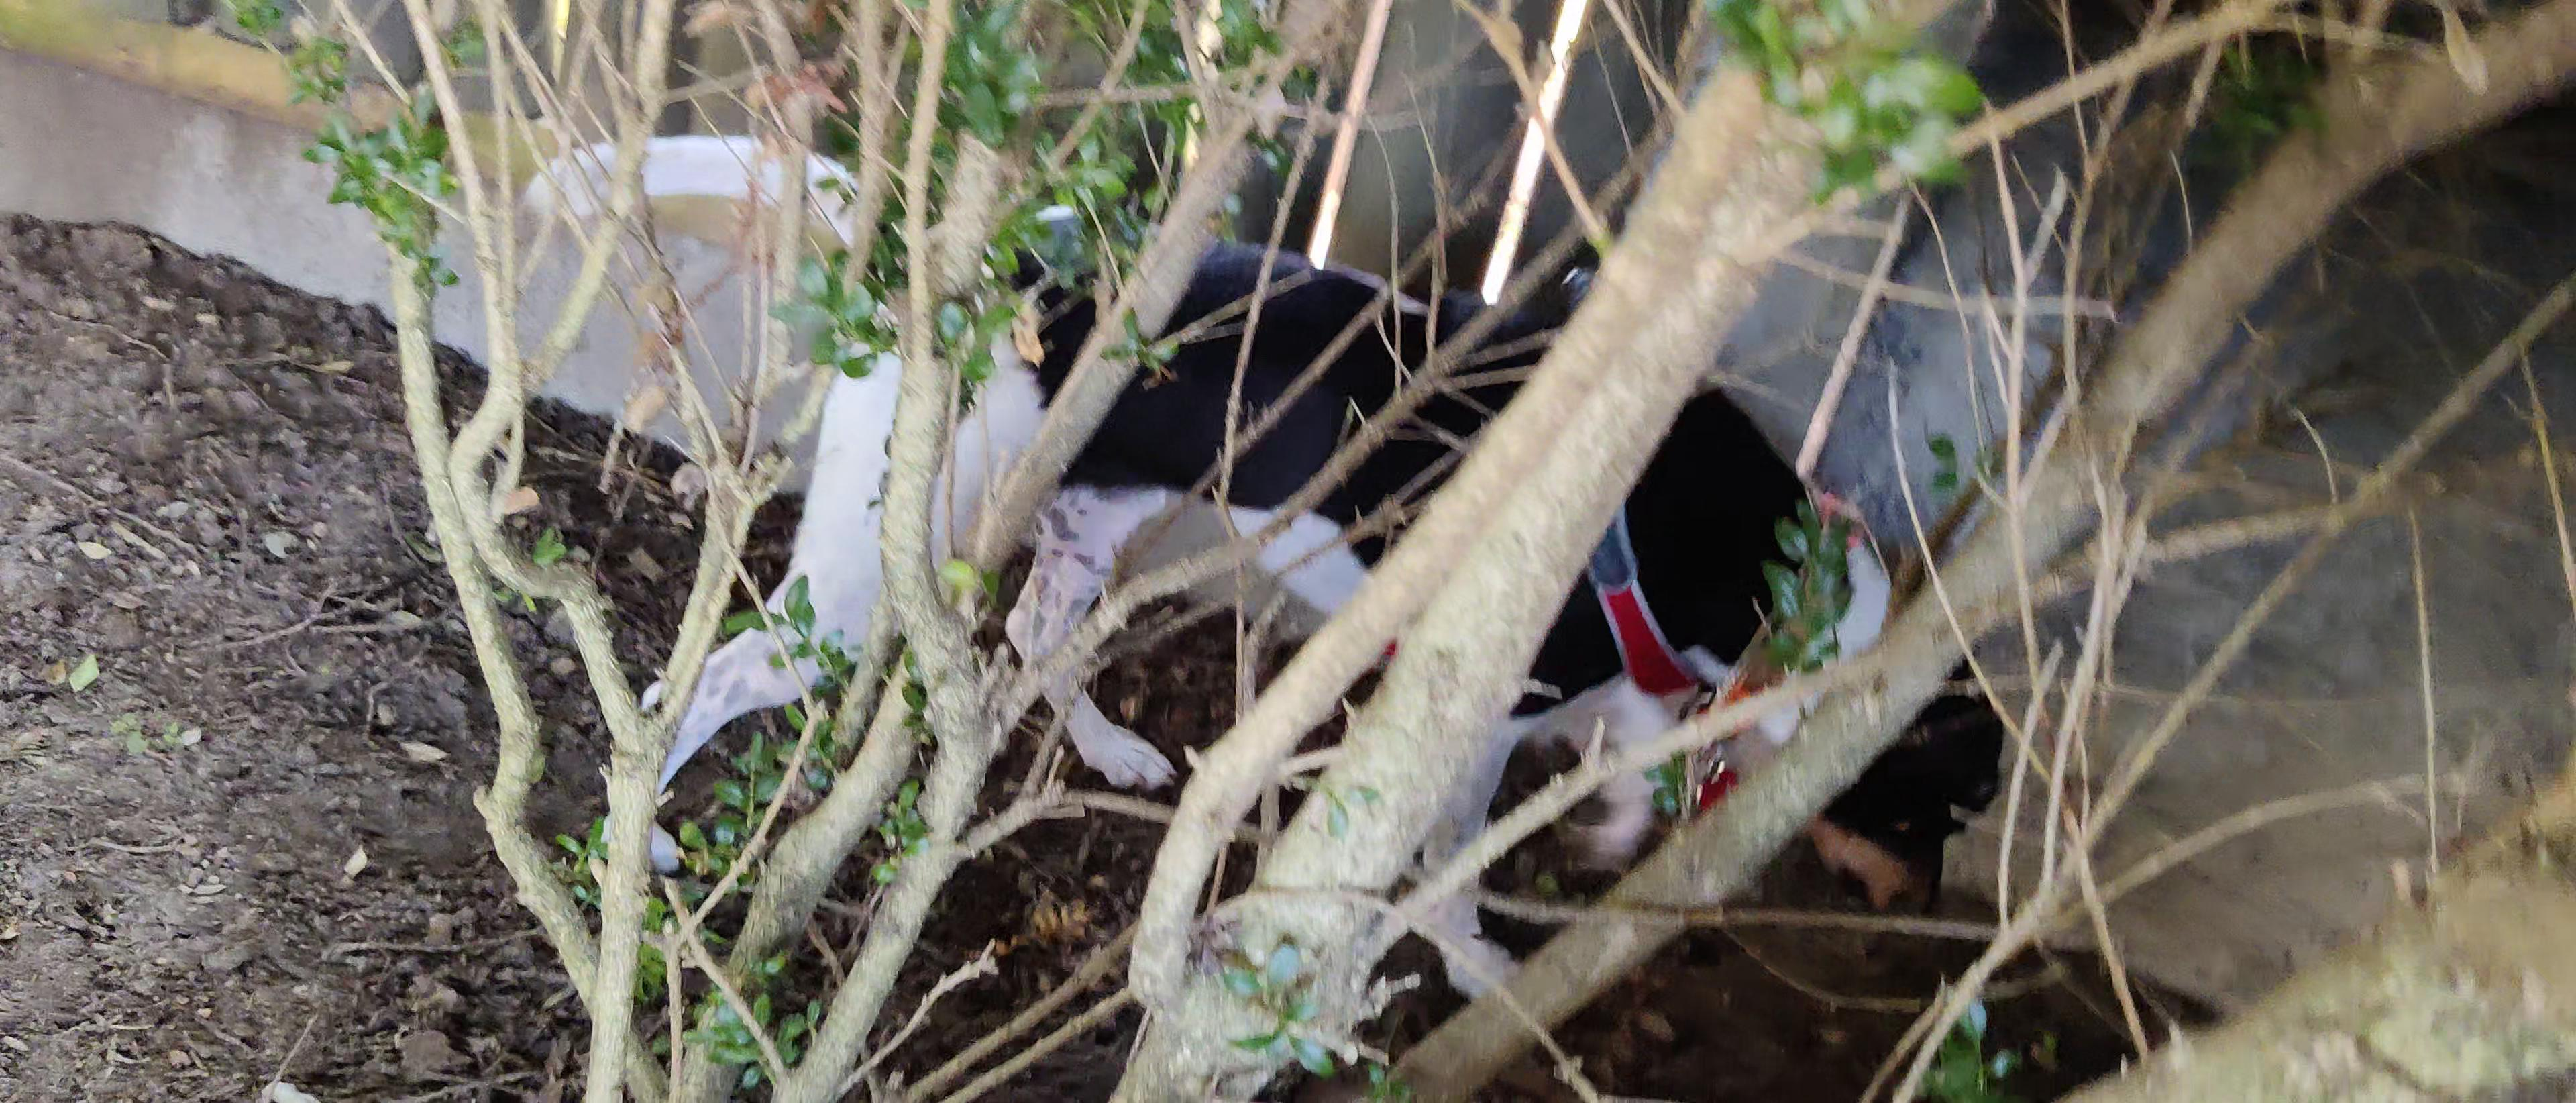Dog: (516, 95, 2016, 1022)
